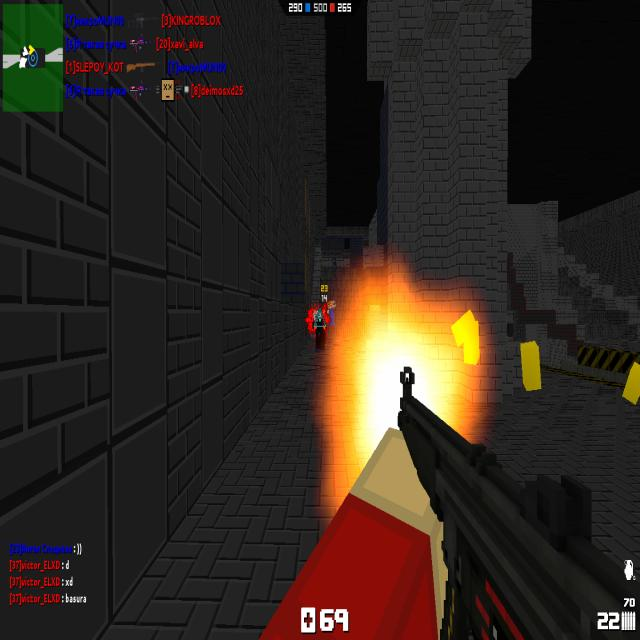enemy: (312, 308, 326, 353), (327, 300, 335, 328), (331, 256, 337, 269)
